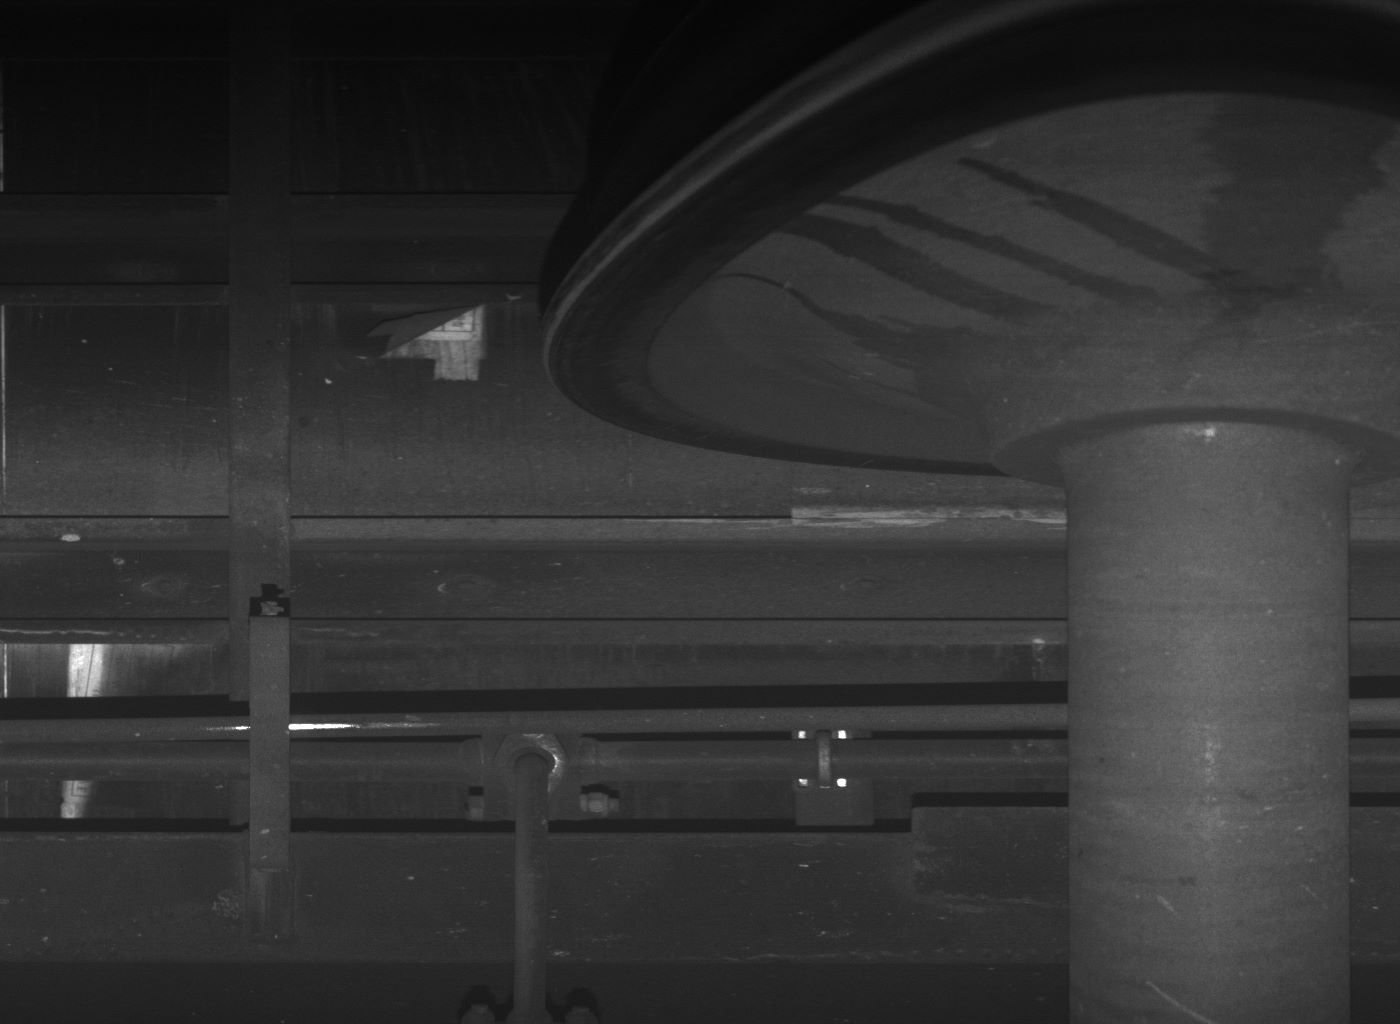normal: (246, 599, 291, 867)
